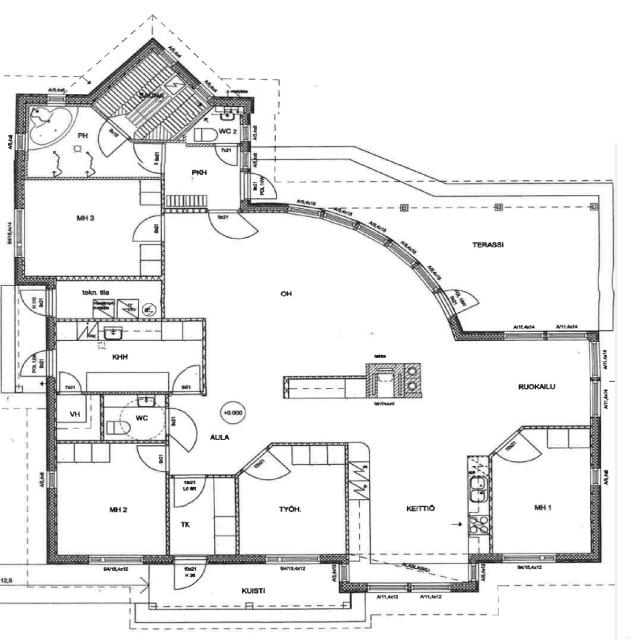door: (236, 449, 294, 481), (497, 431, 541, 464), (171, 554, 208, 591), (170, 474, 207, 508), (128, 212, 166, 245), (169, 362, 204, 396), (131, 141, 165, 176), (243, 170, 280, 202), (206, 207, 240, 240), (135, 442, 169, 474), (166, 405, 198, 439), (18, 285, 51, 317), (18, 350, 52, 378), (57, 370, 84, 394), (214, 142, 238, 167)
window: (497, 430, 532, 465), (261, 552, 324, 568), (84, 552, 147, 568), (10, 204, 28, 258), (498, 551, 558, 566), (585, 339, 602, 382), (499, 329, 547, 344), (586, 377, 602, 420), (543, 329, 588, 343), (365, 581, 409, 594), (409, 582, 452, 595), (44, 285, 58, 319), (12, 129, 28, 156), (42, 467, 58, 492), (43, 92, 68, 108), (44, 349, 56, 378), (588, 464, 602, 488)
zone: (16, 179, 163, 279), (52, 442, 168, 559), (489, 432, 595, 558), (239, 449, 349, 557), (472, 338, 594, 431), (24, 101, 165, 178), (53, 322, 205, 392), (167, 474, 236, 559), (160, 144, 242, 209), (52, 281, 164, 321), (100, 394, 169, 443), (52, 393, 102, 442), (186, 106, 247, 144), (282, 378, 372, 400)
